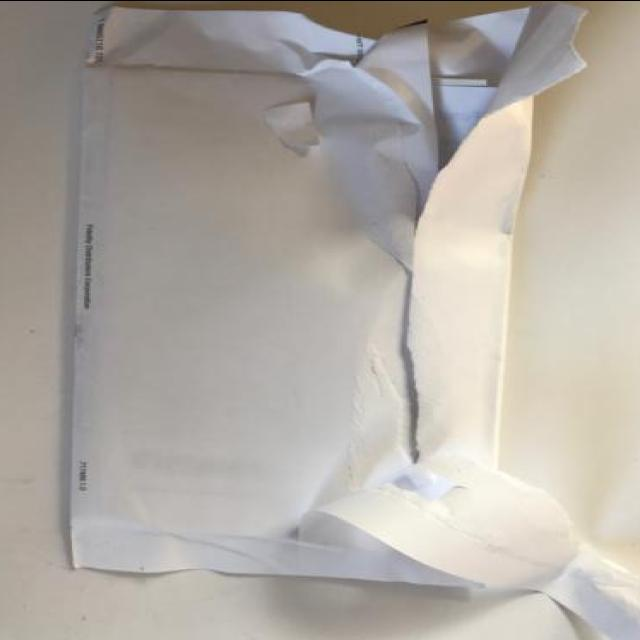kertas: (67, 0, 640, 640)
